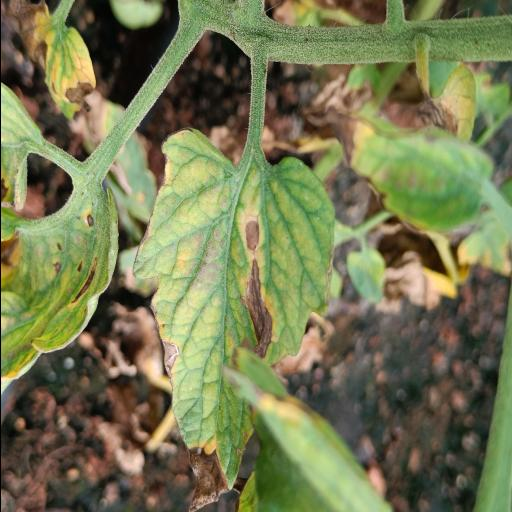disease_tomato: (128, 121, 336, 512)
